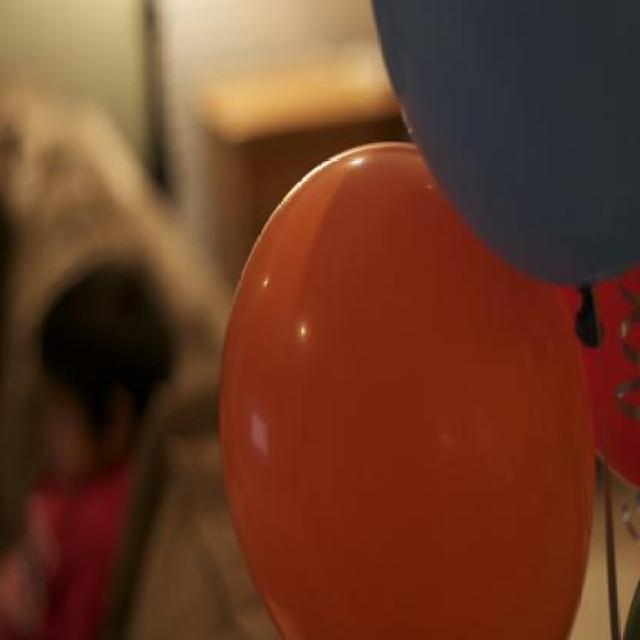balloon: (208, 126, 612, 640), (360, 0, 638, 329)
